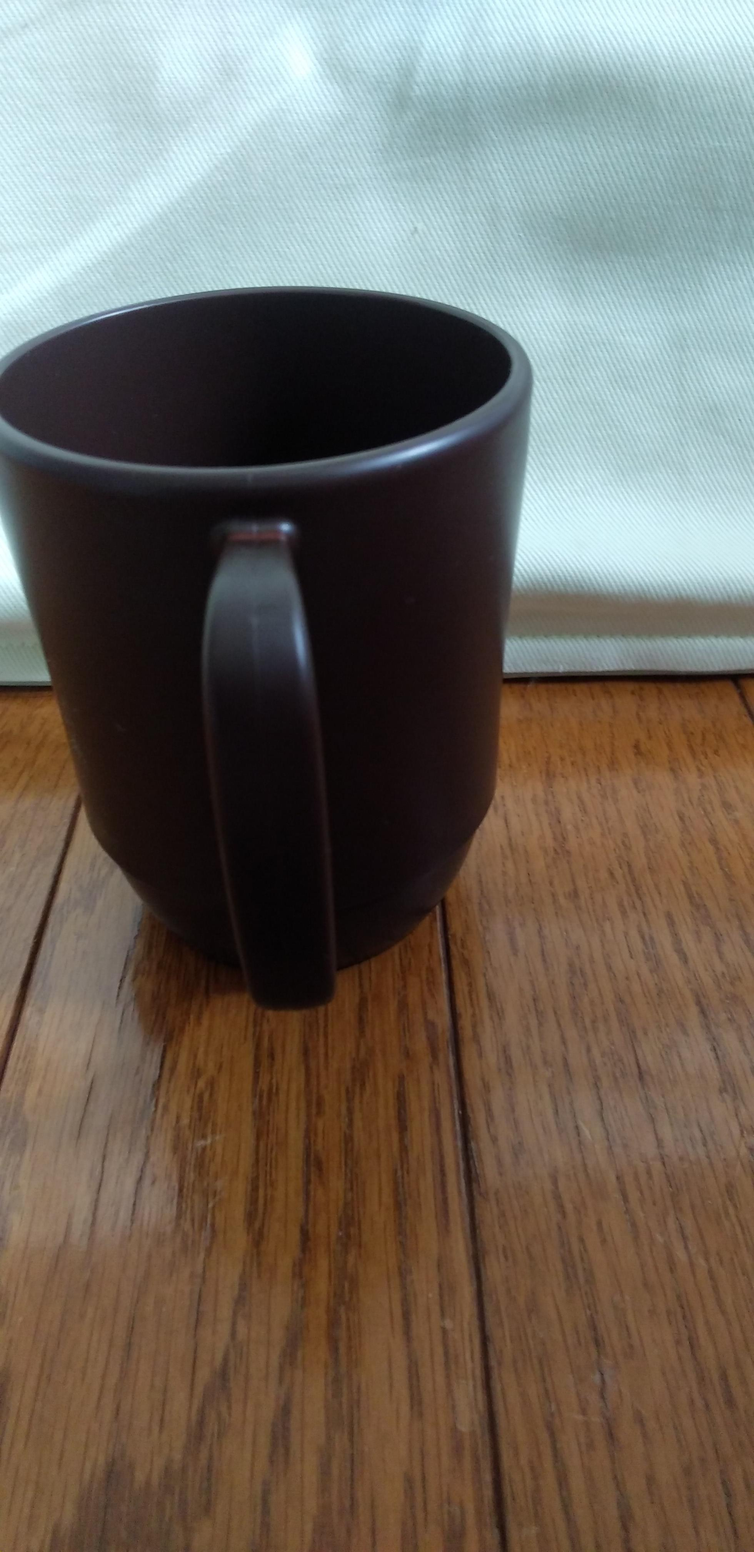mug-real100-3d100: (0, 288, 531, 1010)
